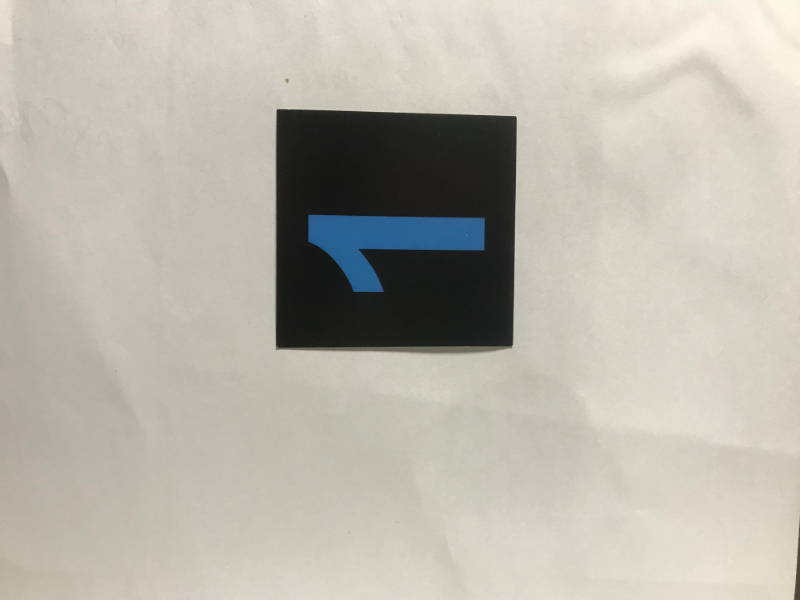One-6: (281, 115, 508, 340)
